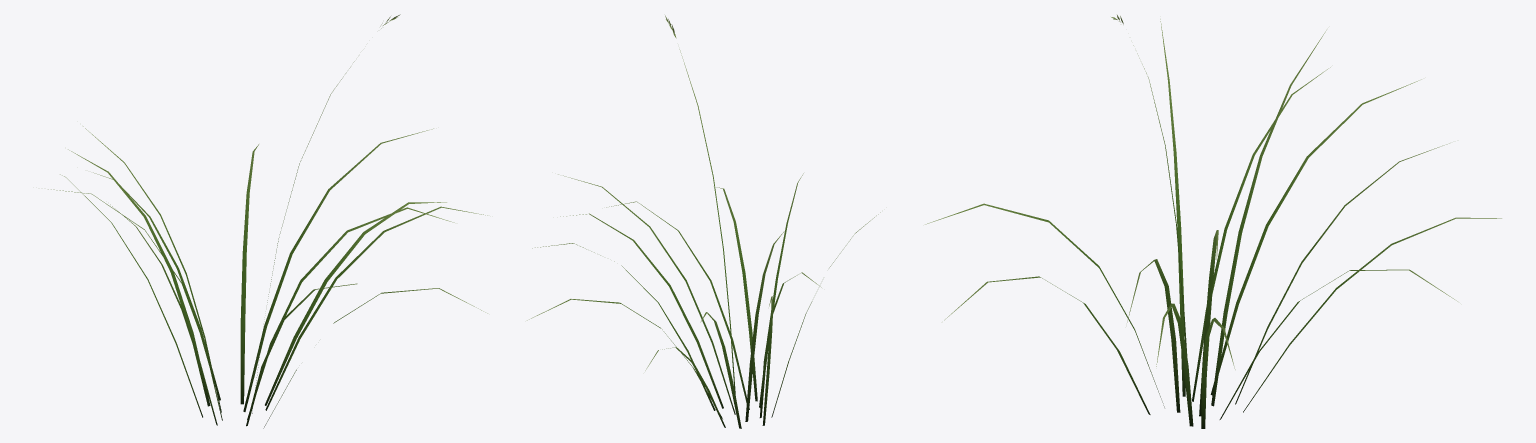
File: b612_veg_VL_Grass_Tall_B_0.glb
The picture shows the model from 3 angles, left to right: view 1: azimuth 30°, elevation 25°; view 2: azimuth 150°, elevation 25°; view 3: azimuth 270°, elevation 25°; orthographic projection. The views are drawn at different scales.
Visible parts, largest first — view 1: Grass_Tall_B_LOD0; view 2: Grass_Tall_B_LOD0; view 3: Grass_Tall_B_LOD0.
Part boxes in pixels (x1,y1,x2,y2): Grass_Tall_B_LOD0: (48,14,487,428); Grass_Tall_B_LOD0: (527,15,880,428); Grass_Tall_B_LOD0: (925,15,1501,428).
Bounding box in the file's own units: 0.8849 × 0.8619 × 1.01.
